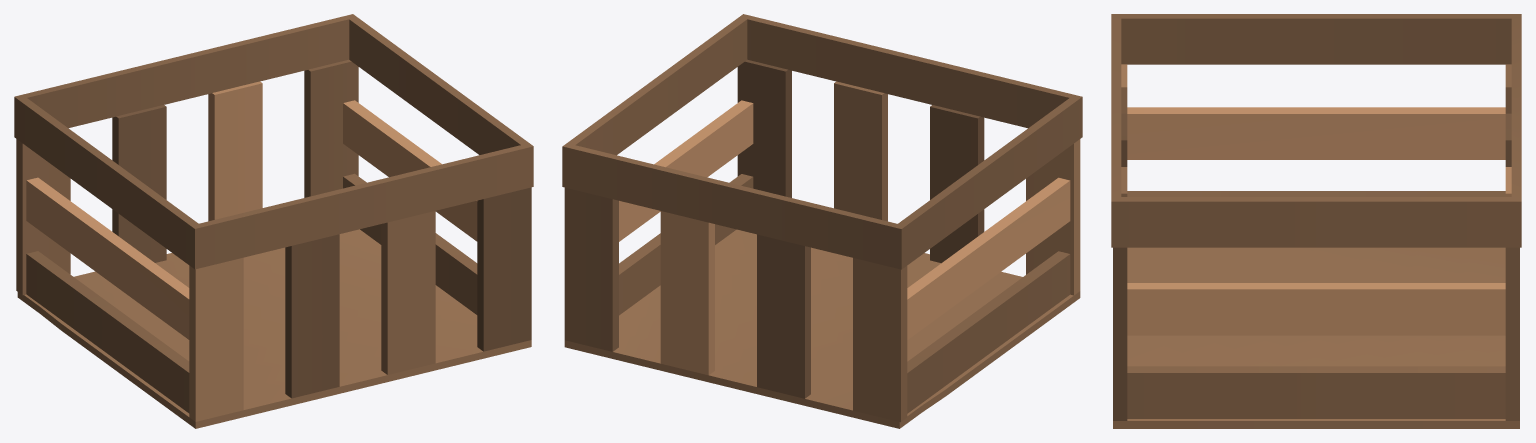
File: Med Mid Crate No Lid.fbx
3 renders of one model, left to right at view 1: azimuth 30°, elevation 25°; view 2: azimuth 150°, elevation 25°; view 3: azimuth 270°, elevation 25°, orthographic. The views are drawn at different scales.
Parts seen in each view (by area): view 1: Med Mid Crate No Lid; view 2: Med Mid Crate No Lid; view 3: Med Mid Crate No Lid.
Boxes of the visible parts, x1,y1,x2,y2 form: Med Mid Crate No Lid: [14, 14, 533, 428]; Med Mid Crate No Lid: [562, 14, 1082, 428]; Med Mid Crate No Lid: [1111, 14, 1521, 428].
Size of the model in its own units: 118 by 192 by 208.
1 material, 1 textured.
